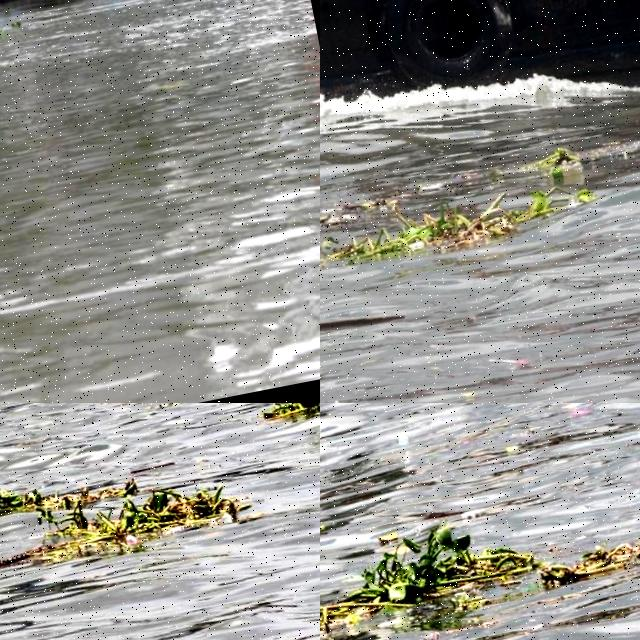water-hyacinth: (319, 521, 640, 640), (321, 166, 606, 272), (24, 463, 249, 560), (1, 508, 45, 584), (1, 470, 46, 524), (261, 404, 321, 440), (533, 137, 584, 175)
